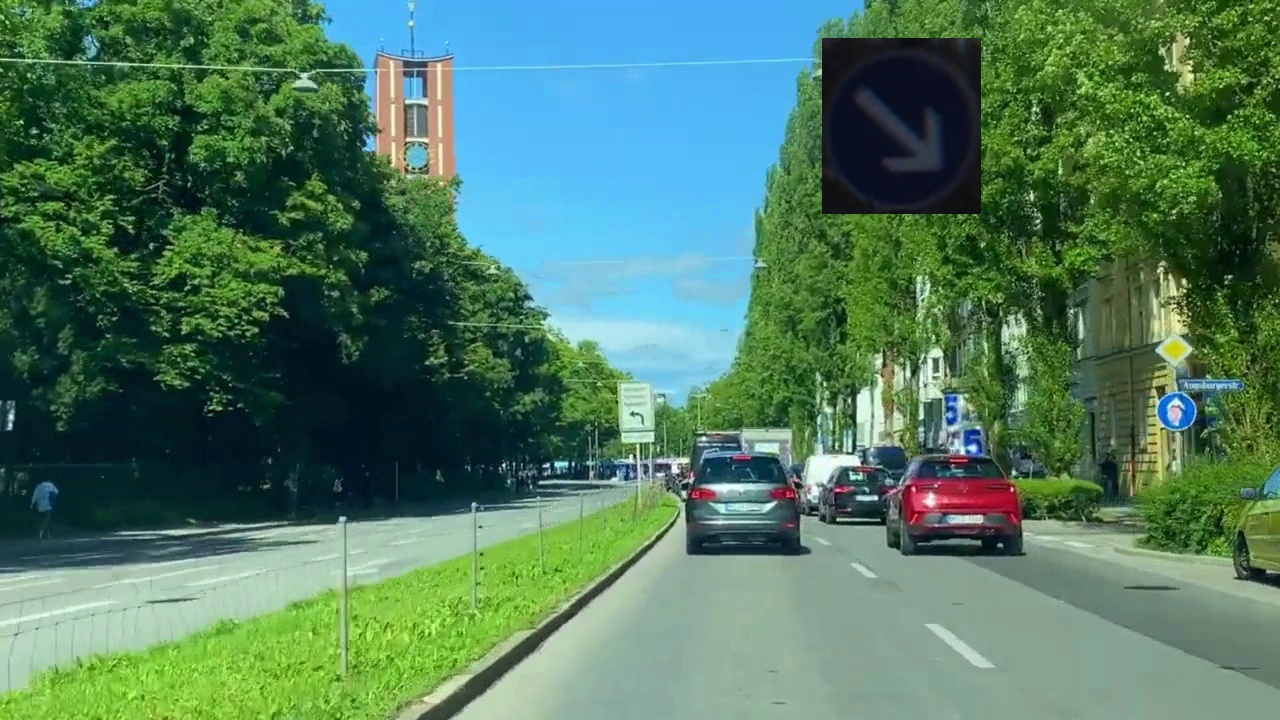Keep right: (822, 38, 981, 214)
